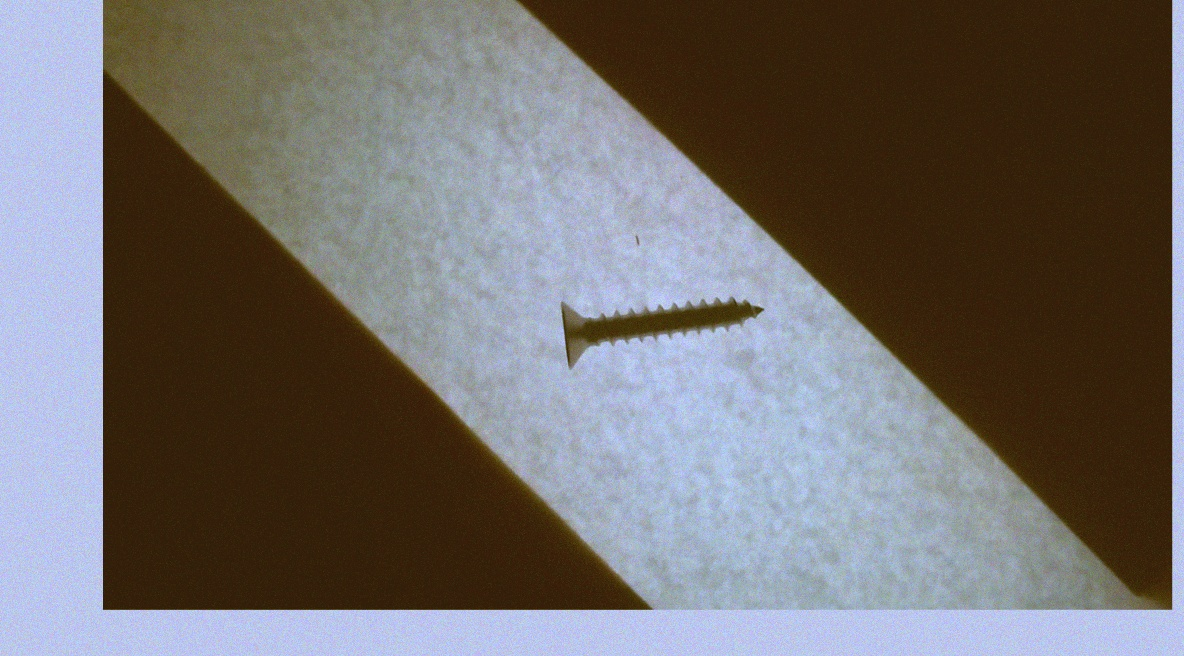S001: (547, 274, 774, 383)
